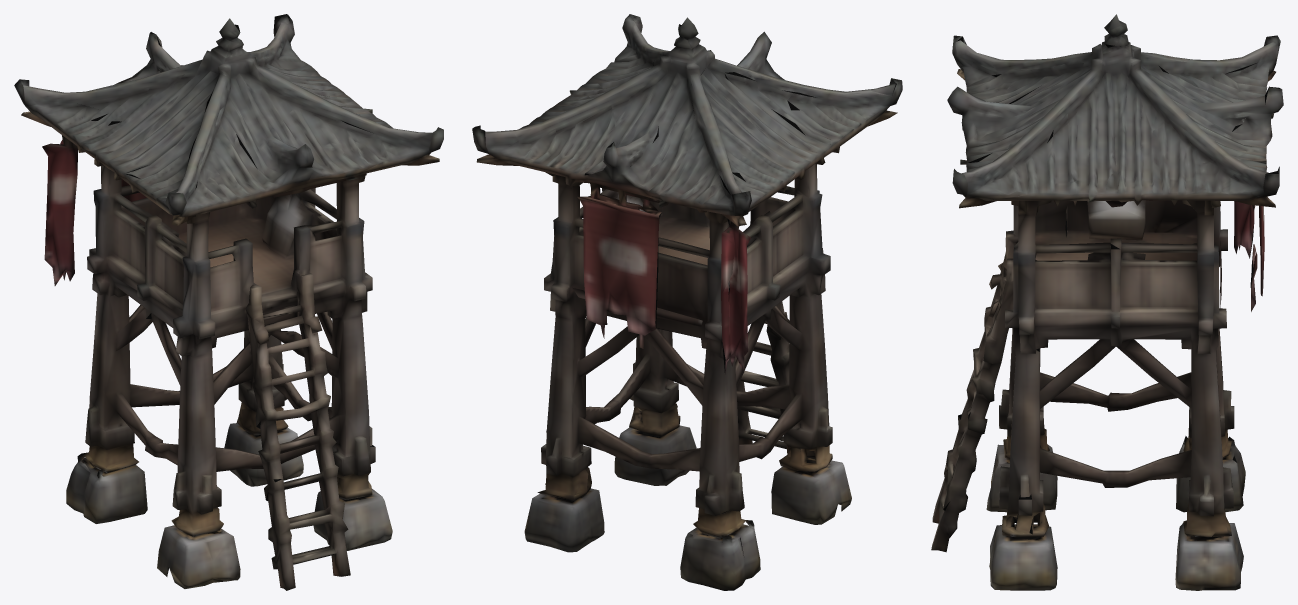
File: watchtower.glb
3 views of the same model, side by side, from view 1: azimuth 30°, elevation 25°; view 2: azimuth 150°, elevation 25°; view 3: azimuth 270°, elevation 25° (orthographic). The views are drawn at different scales.
Parts seen in each view (by area): view 1: MV_watchtower; view 2: MV_watchtower; view 3: MV_watchtower.
Part boxes in pixels (bbox=[...]): MV_watchtower: bbox=[14, 14, 443, 590]; MV_watchtower: bbox=[472, 14, 902, 590]; MV_watchtower: bbox=[931, 14, 1283, 590].
Bounding box in the file's own units: 3.42 × 6 × 3.66.
1 material, 1 textured.
